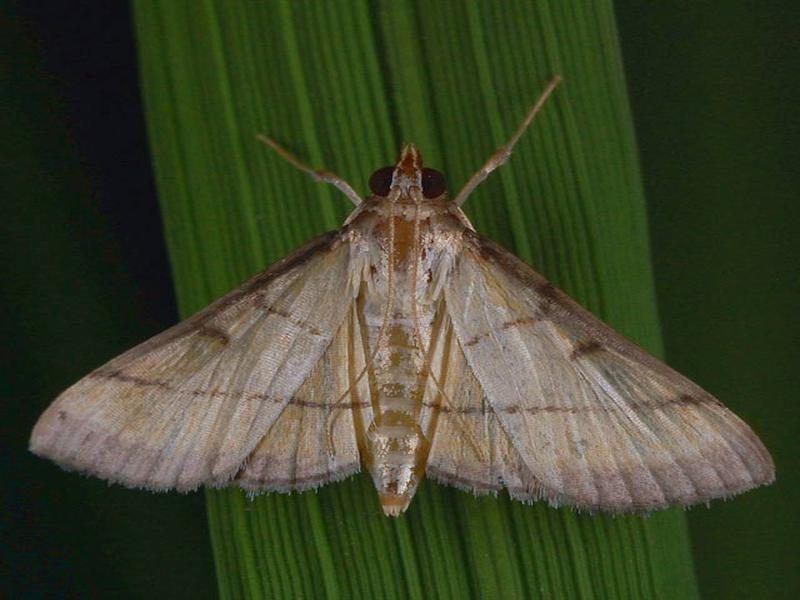Leaf_folder: (37, 150, 785, 531)
